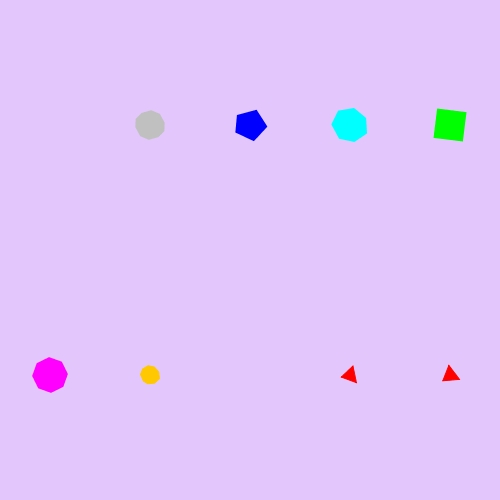decagon: (131, 107, 170, 143)
heptagon: (328, 104, 372, 146)
nonagon: (136, 361, 165, 389)
octagon: (28, 353, 72, 397)
pentagon: (231, 106, 270, 145)
quadrilateral: (426, 101, 474, 149)
triangle: (338, 362, 363, 388), (438, 362, 463, 388)
